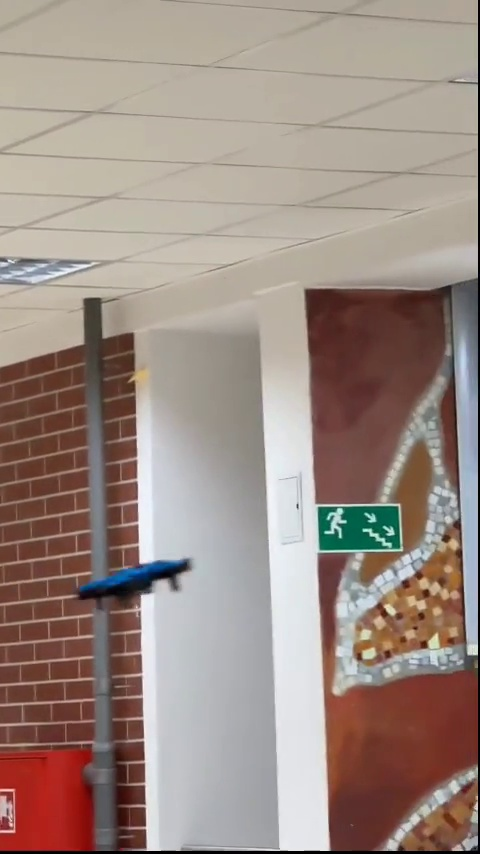drone: (80, 555, 193, 607)
